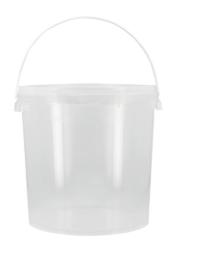SEAU: (8, 4, 174, 240)
